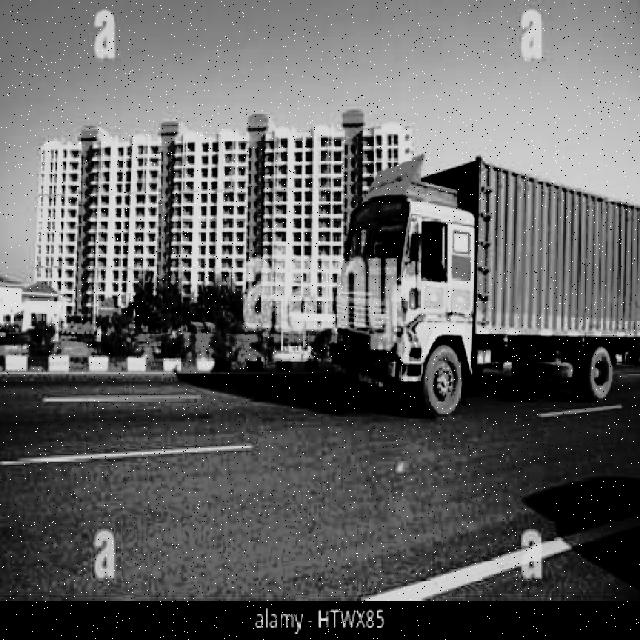HCV: (342, 166, 634, 386)
